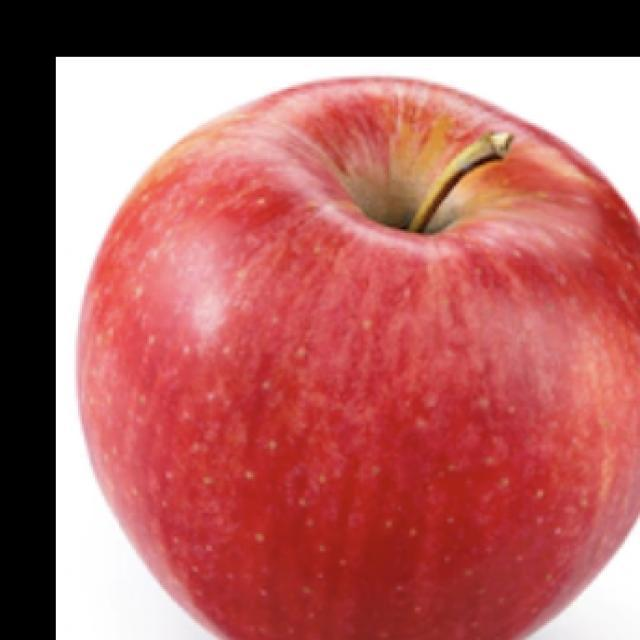Fresh Apple: (72, 70, 640, 640)
